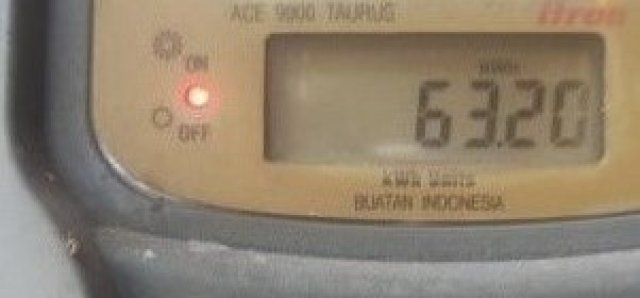box: (268, 34, 602, 161)
